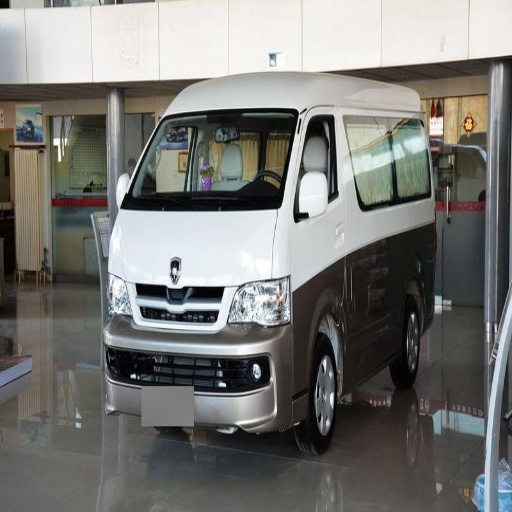front_bumper: (104, 254, 313, 445)
front_glass: (123, 110, 296, 207)
front_left_door: (293, 113, 336, 246), (348, 285, 380, 354)
